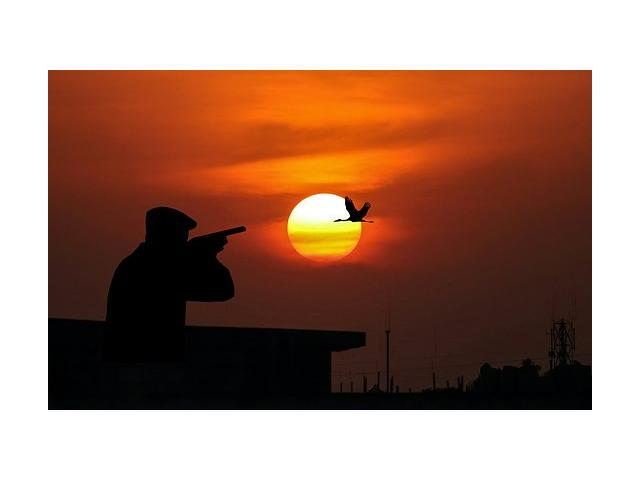rifle: (179, 224, 251, 267)
